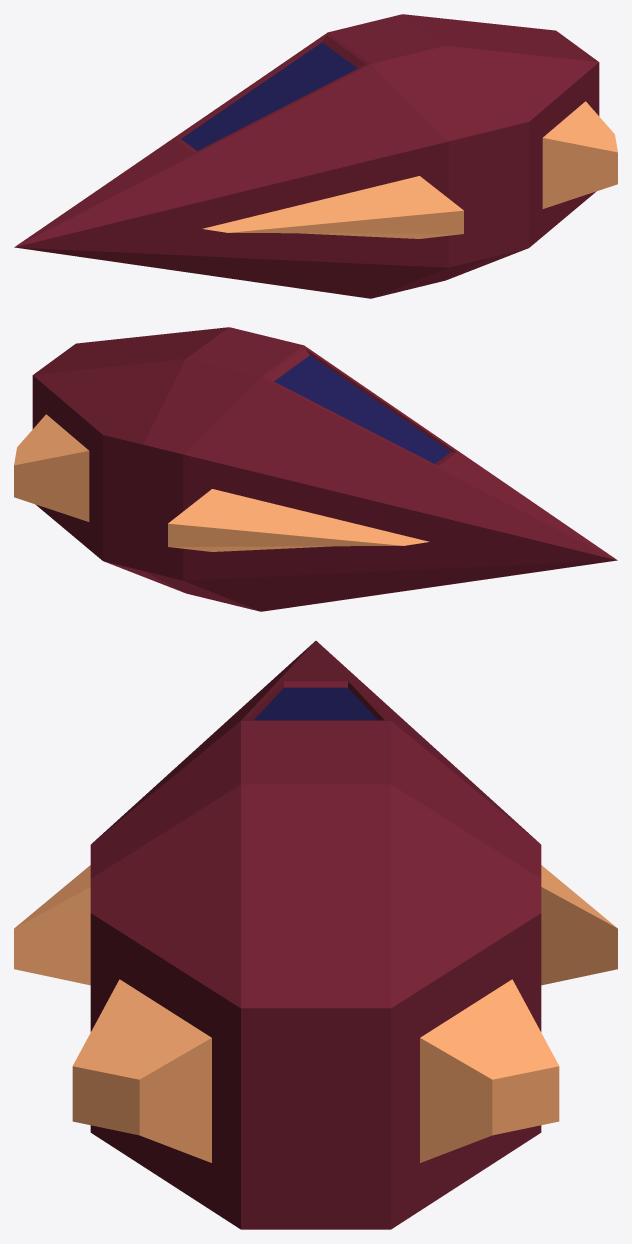
The model's file is Scout.fbx.
3 views of the same model, one above another, from view 1: azimuth 30°, elevation 25°; view 2: azimuth 150°, elevation 25°; view 3: azimuth 270°, elevation 25° (orthographic). The views are drawn at different scales.
Visible parts, largest first — view 1: tracker.001; view 2: tracker.001; view 3: tracker.001.
Boxes of the visible parts, <box> form: tracker.001: <box>14,14,617,298</box>; tracker.001: <box>14,327,617,611</box>; tracker.001: <box>14,641,617,1229</box>.
Size of the model in its own units: 322 by 128 by 172.
